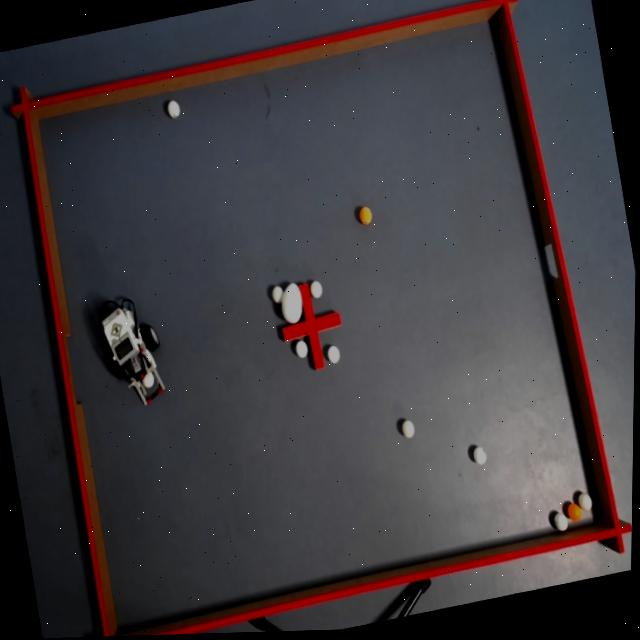boundaries: (8, 0, 634, 637), (39, 22, 603, 632)
cross: (283, 284, 343, 373)
egg: (278, 282, 307, 327)
large_goal: (55, 324, 88, 420)
orange_ball: (358, 207, 374, 229), (568, 505, 584, 526)
robot: (94, 291, 172, 413)
small_goal: (540, 234, 568, 292)
white_ball: (472, 447, 490, 470), (401, 420, 418, 443), (554, 514, 571, 536), (578, 494, 595, 516), (294, 340, 310, 362), (309, 280, 325, 302), (166, 99, 182, 121), (327, 346, 343, 367), (271, 286, 286, 307)
